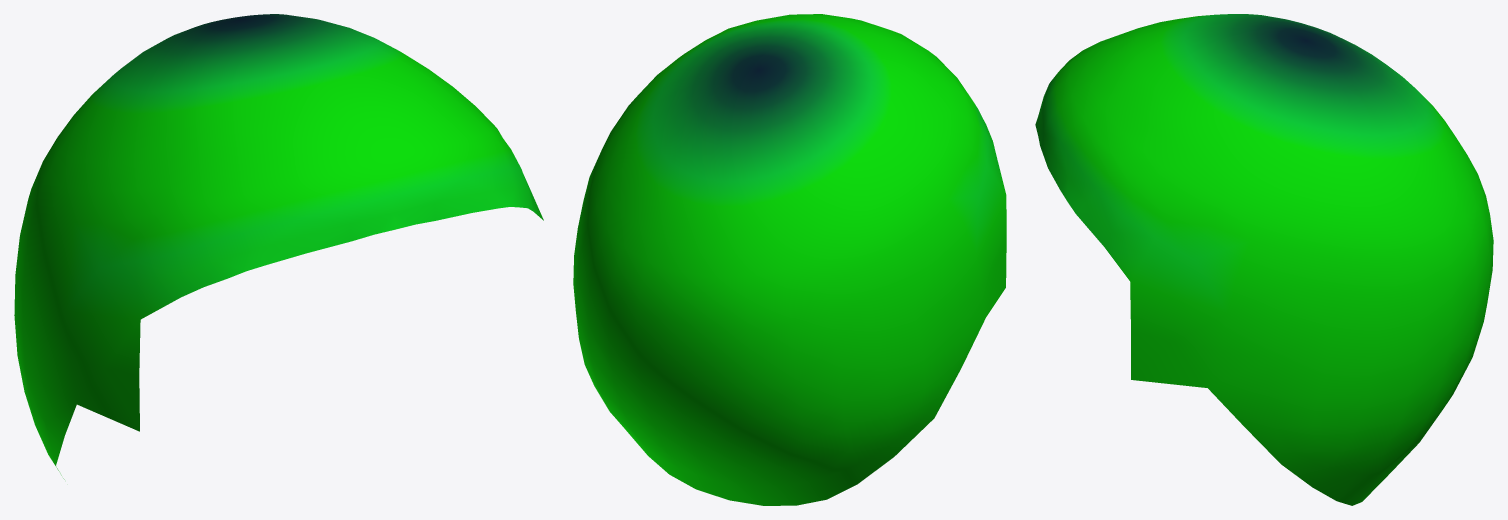
File: Hair1_45.glb
3 views of the same model, side by side, from view 1: azimuth 30°, elevation 25°; view 2: azimuth 150°, elevation 25°; view 3: azimuth 270°, elevation 25° (orthographic). The views are drawn at different scales.
Size of the model in its own units: 52.6 by 57.59 by 53.98.
